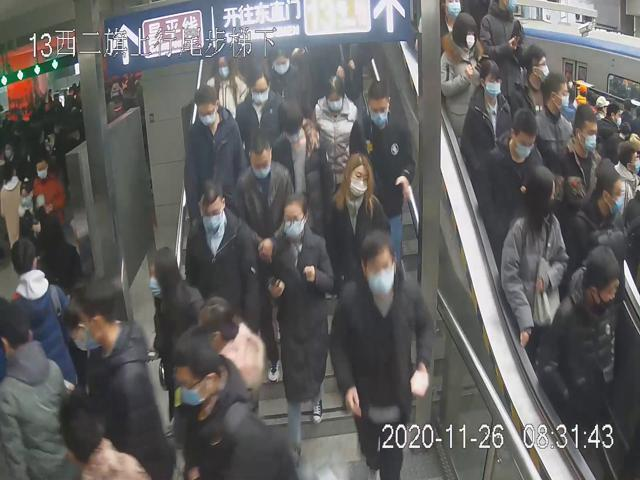person: (329, 225, 436, 480), (268, 192, 336, 465), (346, 80, 414, 270), (185, 176, 260, 344), (324, 149, 393, 291), (268, 96, 335, 231), (479, 105, 542, 242), (184, 86, 246, 210), (232, 128, 292, 243), (459, 55, 513, 180), (310, 69, 364, 184), (235, 58, 290, 149), (264, 47, 310, 113), (204, 50, 247, 117)
